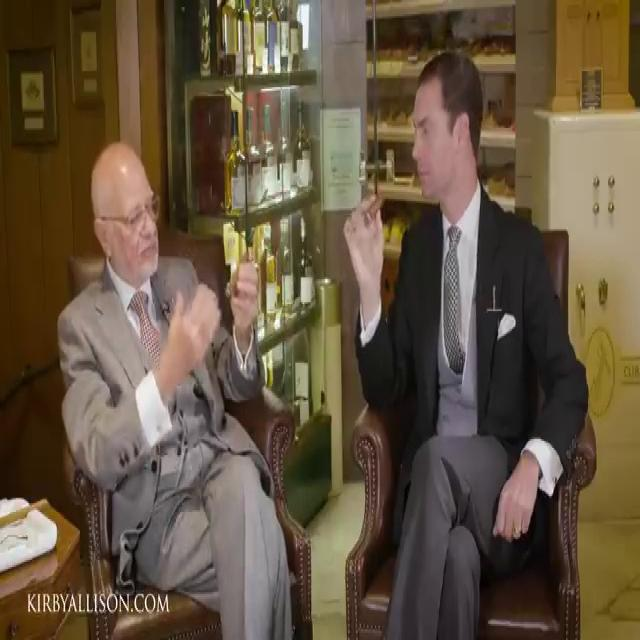Smooking: (361, 182, 388, 228)
